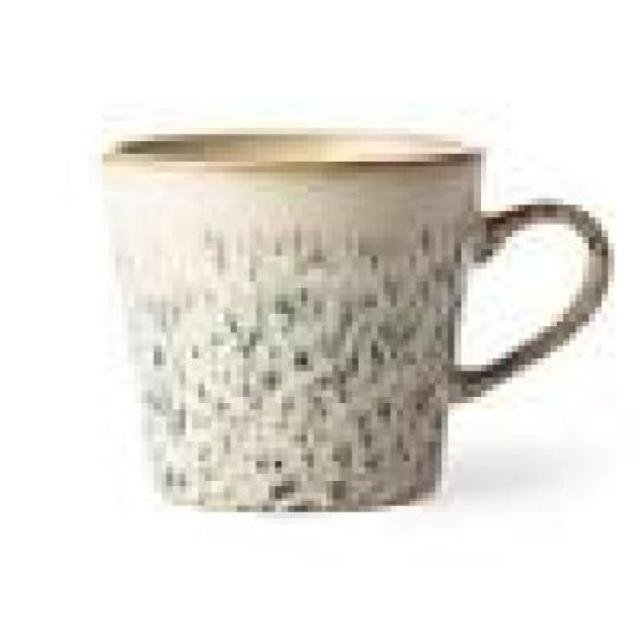cup: (97, 115, 622, 532)
